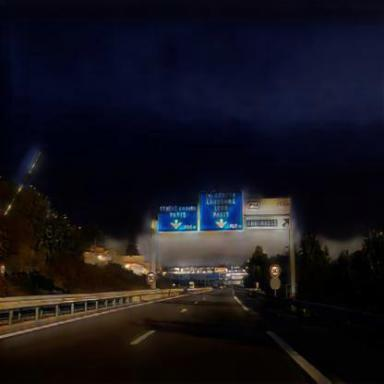Speed_limit_90: (271, 265, 281, 277)
